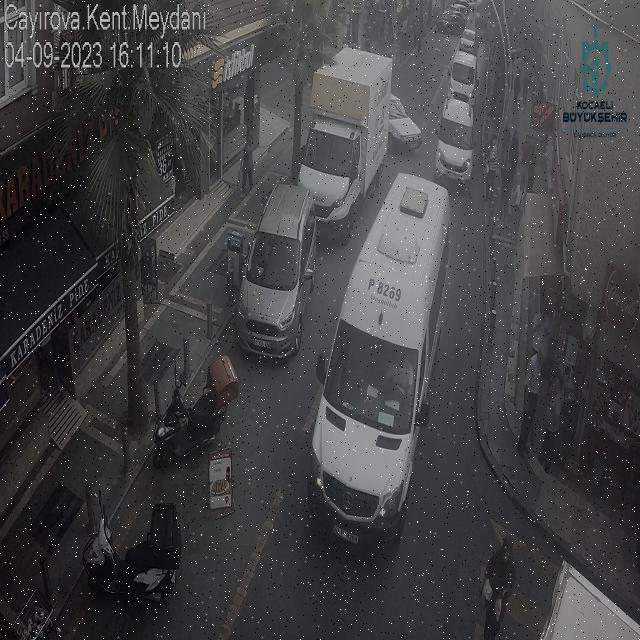car: (239, 184, 316, 358)
lorry: (299, 48, 392, 222), (0, 0, 35, 107)
minivan: (312, 174, 449, 542), (0, 135, 86, 222), (0, 0, 35, 106)
